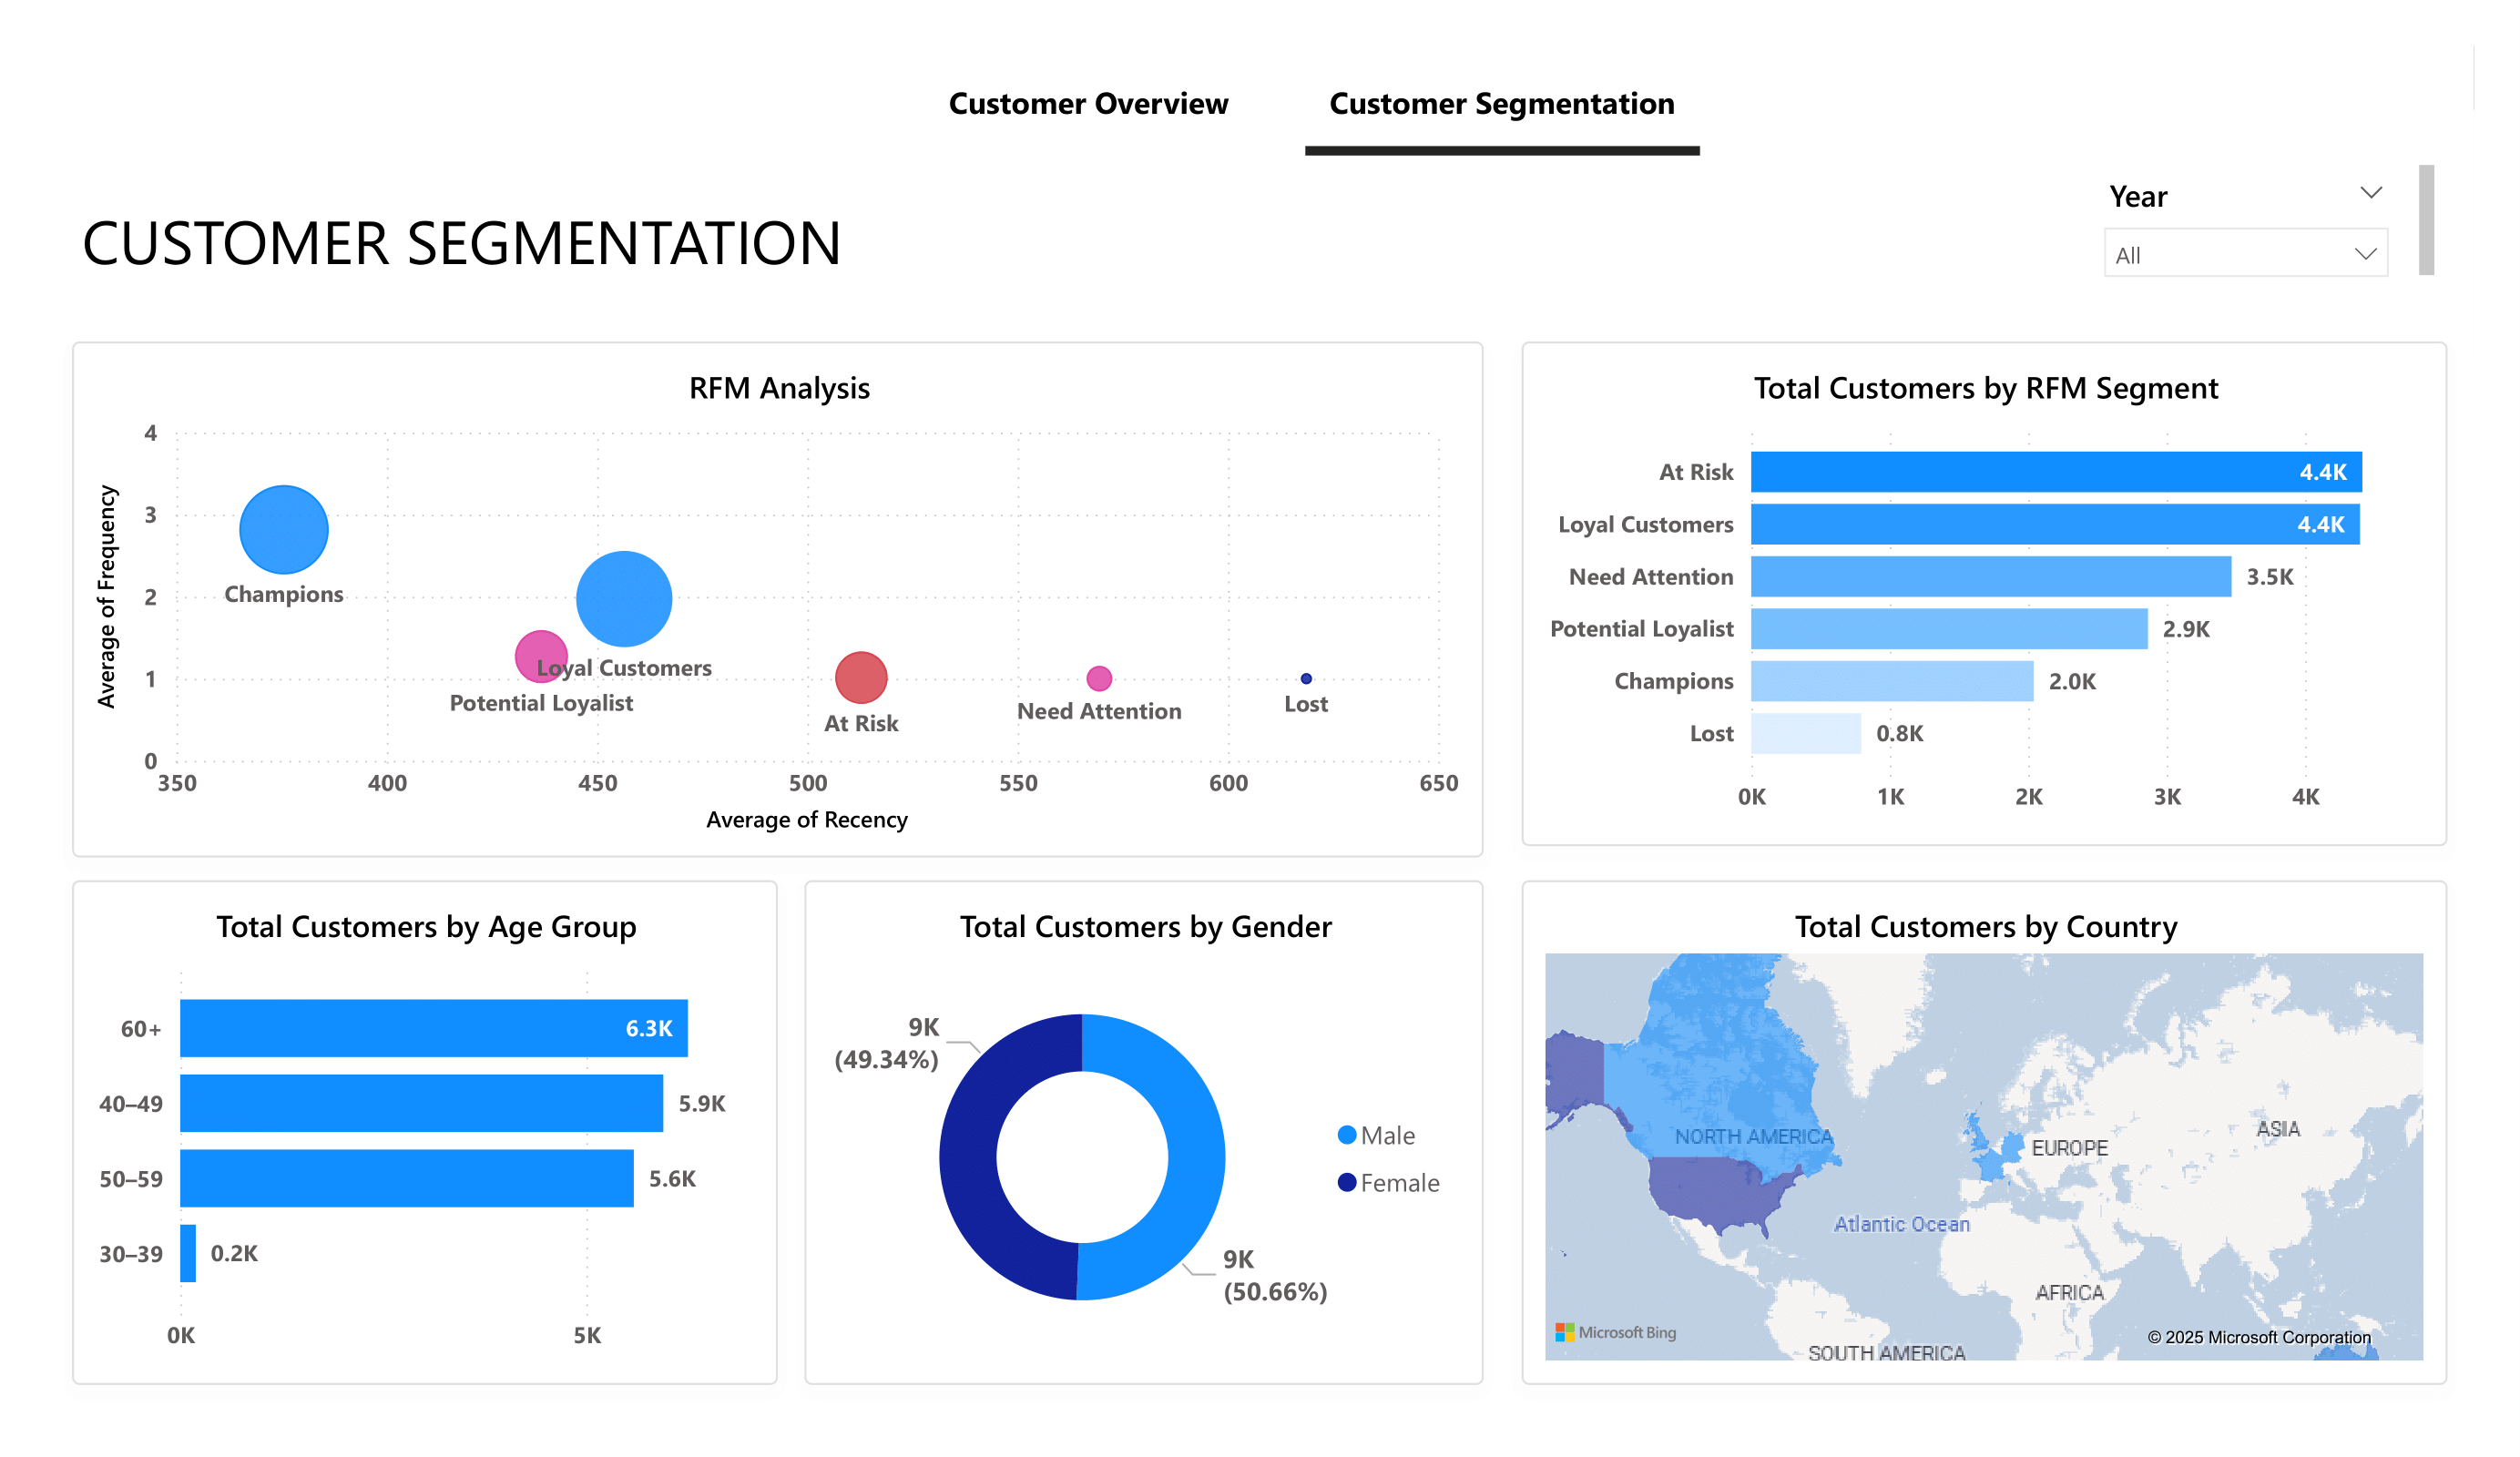

The dashboard page shown, as its layout file describes it:
{"tool":"powerbi","page":{"name":"Customer Segmentation","canvas":[1280,720],"ordinal":1},"visuals":[{"type":"textbox","box":[14,58,1250,84],"z":0},{"type":"scatterChart","title":"RFM Analysis","fields":{"Y":["Avg(RFM_Table.Frequency)"],"X":["Avg(RFM_Table.Recency)"],"Size":["Sum(RFM_Table.Monetary)"],"Category":["RFM_Table.RFM Segment"],"Series":["RFM_Table.RFM Segment"]},"box":[14,156,744,272],"z":1000},{"type":"barChart","title":"Total Customers  by RFM Segment","fields":{"Category":["RFM_Table.RFM Segment"],"Y":["_Measures.Total Customers"]},"box":[778,156,488,266],"z":2000},{"type":"donutChart","fields":{"Category":["Customer_dim.Gender"],"Y":["_Measures.Total Customers"]},"box":[400,440,358,266],"z":3000},{"type":"filledMap","fields":{"Category":["Customer_dim.Country Hierarchy.Country","Customer_dim.Country Hierarchy.State","Customer_dim.Country Hierarchy.City"]},"box":[778,440,488,266],"z":4000},{"type":"barChart","fields":{"Category":["Customer_dim.Age Group"],"Y":["_Measures.Total Customers"]},"box":[14,440,372,266],"z":5000},{"type":"slicer","fields":{"Values":["Date_dim.CalendarYear"]},"box":[1080,68,160,74],"z":6000},{"type":"pageNavigator","box":[446,0,426,58],"z":7000}]}

Visuals, with their boxes on the page's 1280x720 design canvas (x1, y1, x2, y2). These are canvas units, not pixel positions in the 2520x1457 screenshot, which may show the page scaled, cropped or inside an application window:
textbox: x1=14 y1=58 x2=1264 y2=142
"RFM Analysis" scatterChart: x1=14 y1=156 x2=758 y2=428
"Total Customers  by RFM Segment" barChart: x1=778 y1=156 x2=1266 y2=422
donutChart - Customer_dim.Gender x _Measures.Total Customers: x1=400 y1=440 x2=758 y2=706
filledMap - Customer_dim.Country Hierarchy.Country x Customer_dim.Country Hierarchy.State: x1=778 y1=440 x2=1266 y2=706
barChart - Customer_dim.Age Group x _Measures.Total Customers: x1=14 y1=440 x2=386 y2=706
slicer - Date_dim.CalendarYear: x1=1080 y1=68 x2=1240 y2=142
pageNavigator: x1=446 y1=0 x2=872 y2=58
